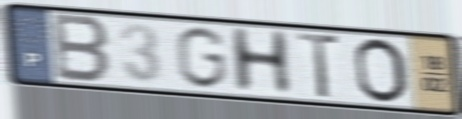3: (117, 21, 164, 86)
B: (52, 11, 112, 87)
G: (173, 25, 229, 92)
H: (226, 26, 296, 95)
O: (352, 36, 412, 105)
T: (295, 31, 342, 101)
